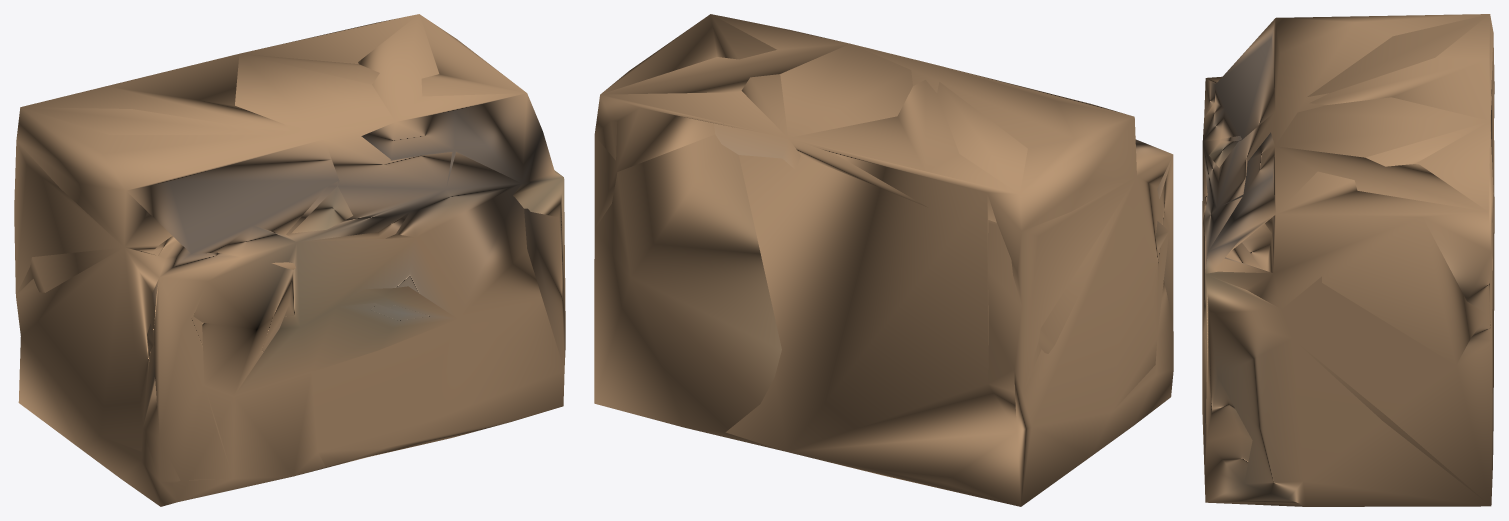
The model's file is gen3d-sealed-letter-lod1.glb.
The picture shows the model from 3 angles, left to right: view 1: azimuth 30°, elevation 25°; view 2: azimuth 150°, elevation 25°; view 3: azimuth 270°, elevation 25°; orthographic projection. The views are drawn at different scales.
Visible parts, largest first — view 1: part_0; view 2: part_0; view 3: part_0.
Boxes of the visible parts, box(x1,y1,x2,y2) form: part_0: box(14, 14, 565, 506); part_0: box(594, 14, 1173, 506); part_0: box(1202, 14, 1494, 506).
Bounding box in the file's own units: 1.42 × 0.9975 × 0.8781.
